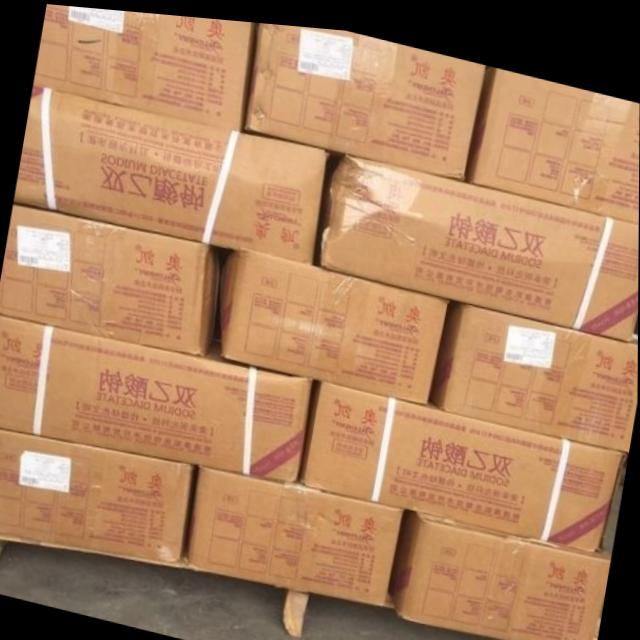box: (316, 147, 639, 325), (299, 372, 626, 541), (14, 84, 328, 259), (0, 315, 316, 476), (243, 18, 487, 172), (221, 241, 448, 395), (0, 202, 224, 352), (431, 296, 638, 444), (392, 503, 613, 640), (183, 462, 409, 594), (464, 57, 640, 212), (33, 3, 258, 123), (0, 428, 198, 560)
